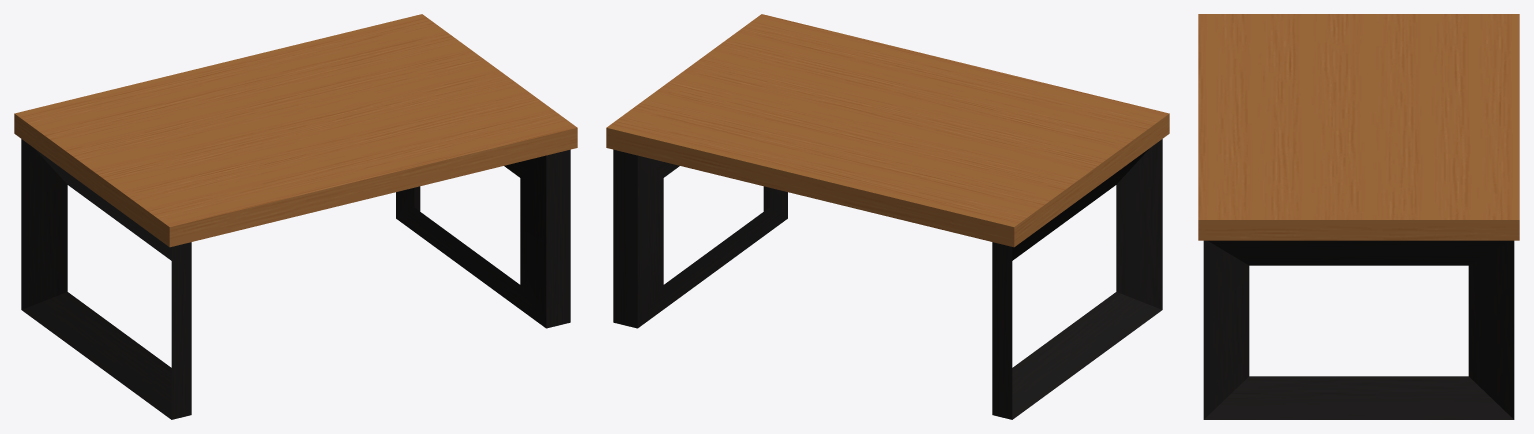
The model's file is Desk_E.FBX.
3 views of the same model, side by side, from view 1: azimuth 30°, elevation 25°; view 2: azimuth 150°, elevation 25°; view 3: azimuth 270°, elevation 25° (orthographic). The views are drawn at different scales.
Visible parts, largest first — view 1: Desk; view 2: Desk; view 3: Desk.
Part boxes in pixels (x1=…): Desk: x1=14, y1=14, x2=577, y2=419; Desk: x1=606, y1=14, x2=1169, y2=419; Desk: x1=1198, y1=14, x2=1519, y2=419.
Size of the model in its own units: 215 by 98.47 by 142.
